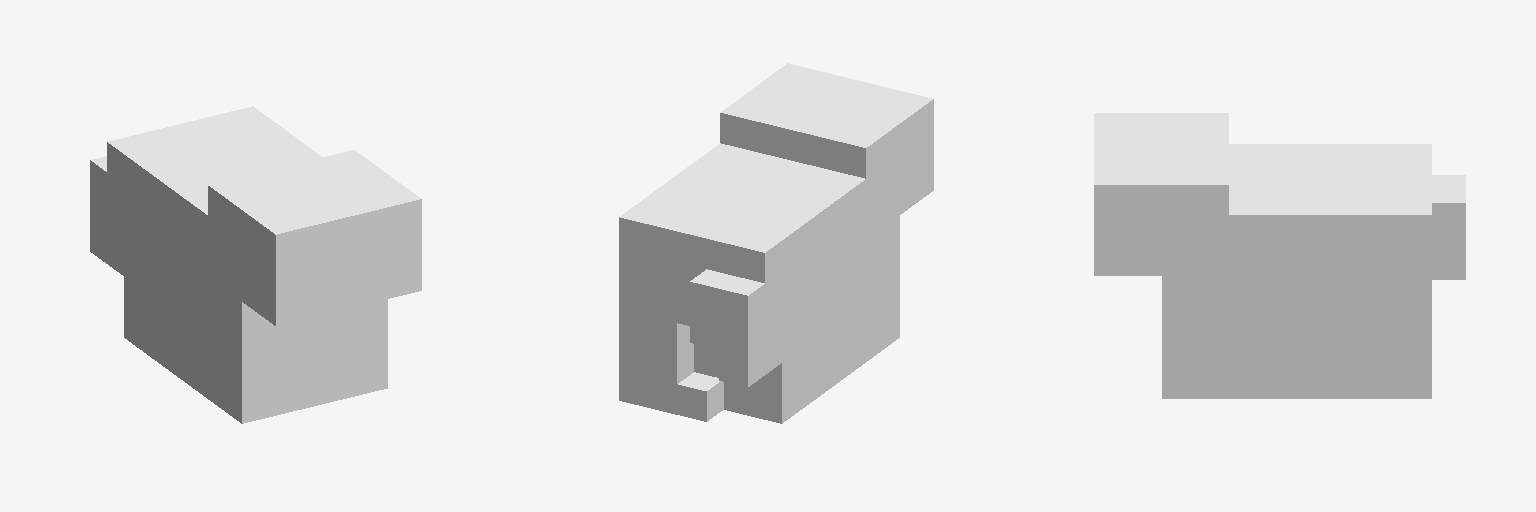
The model's file is Koala_J.obj.
The picture shows the model from 3 angles: view 1: azimuth 30°, elevation 25°; view 2: azimuth 150°, elevation 25°; view 3: azimuth 270°, elevation 25°; orthographic projection.
Parts seen in each view (by area): view 1: object 1; view 2: object 1; view 3: object 1.
Part boxes in pixels (bbox=[...]): object 1: bbox=[90, 106, 421, 423]; object 1: bbox=[619, 63, 933, 423]; object 1: bbox=[1094, 113, 1465, 398].
Bounding box in the file's own units: 0.5 × 0.7 × 1.1.